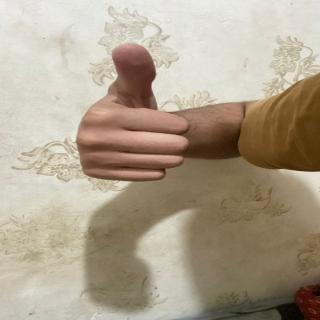ALIF: (57, 42, 235, 186)
